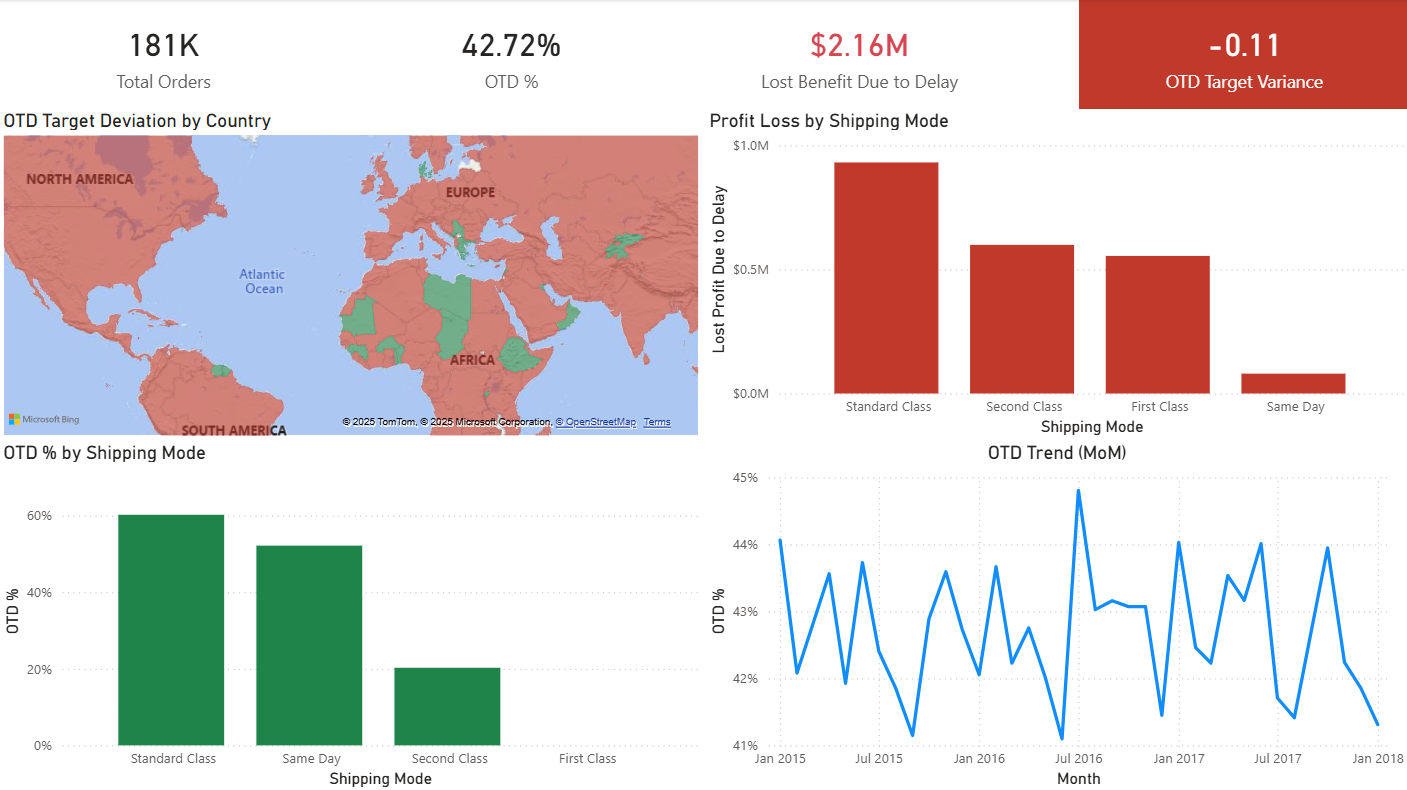

What the dashboard file says about the page in this screenshot:
{"tool":"powerbi","page":{"name":"Page 1","canvas":[1280,720],"ordinal":0},"visuals":[{"type":"card","fields":{"Values":["_Measure.Total Orders"]},"box":[0,0,300,100],"z":0},{"type":"card","fields":{"Values":["_Measure.OTD %"]},"box":[316,0,300,100],"z":1000},{"type":"card","fields":{"Values":["_Measure.Lost Benefit Due to Delay"]},"box":[631,0,300,100],"z":2000},{"type":"card","fields":{"Values":["_Measure.OTD Target Variance"]},"box":[980,0,300,100],"z":3000},{"type":"filledMap","title":"OTD Target Deviation by Country","fields":{"Category":["Dim_Location.order_country"]},"box":[0,100,640,301],"z":4000},{"type":"clusteredColumnChart","title":"Profit Loss by Shipping Mode","fields":{"Category":["Fact_Orders.shipping_mode"],"Y":["_Measure.Lost Benefit Due to Delay"]},"box":[640,100,640,301],"z":5000},{"type":"lineChart","title":"OTD Trend (MoM)","fields":{"Y":["_Measure.OTD %"],"Category":["Dim_Date.Date.Variation.Date Hierarchy.Year","Dim_Date.Date.Variation.Date Hierarchy.Quarter","Dim_Date.Date.Variation.Date Hierarchy.Month","Dim_Date.Date.Variation.Date Hierarchy.Day"]},"box":[640,401,640,319],"z":6000},{"type":"clusteredColumnChart","title":"OTD % by Shipping Mode","fields":{"Category":["Fact_Orders.shipping_mode"],"Y":["_Measure.OTD %"]},"box":[0,401,640,319],"z":6001}]}

Visuals, with their boxes in screenshot pixels (x1, y1, x2, y2), scaled from the page's 1280x720 canvas onto the 1407x790 screenshot:
card - _Measure.Total Orders: [x1=0, y1=0, x2=330, y2=110]
card - _Measure.OTD %: [x1=347, y1=0, x2=677, y2=110]
card - _Measure.Lost Benefit Due to Delay: [x1=694, y1=0, x2=1023, y2=110]
card - _Measure.OTD Target Variance: [x1=1077, y1=0, x2=1406, y2=110]
"OTD Target Deviation by Country" filledMap: [x1=0, y1=110, x2=704, y2=440]
"Profit Loss by Shipping Mode" clusteredColumnChart: [x1=704, y1=110, x2=1406, y2=440]
"OTD Trend (MoM)" lineChart: [x1=704, y1=440, x2=1406, y2=789]
"OTD % by Shipping Mode" clusteredColumnChart: [x1=0, y1=440, x2=704, y2=789]
